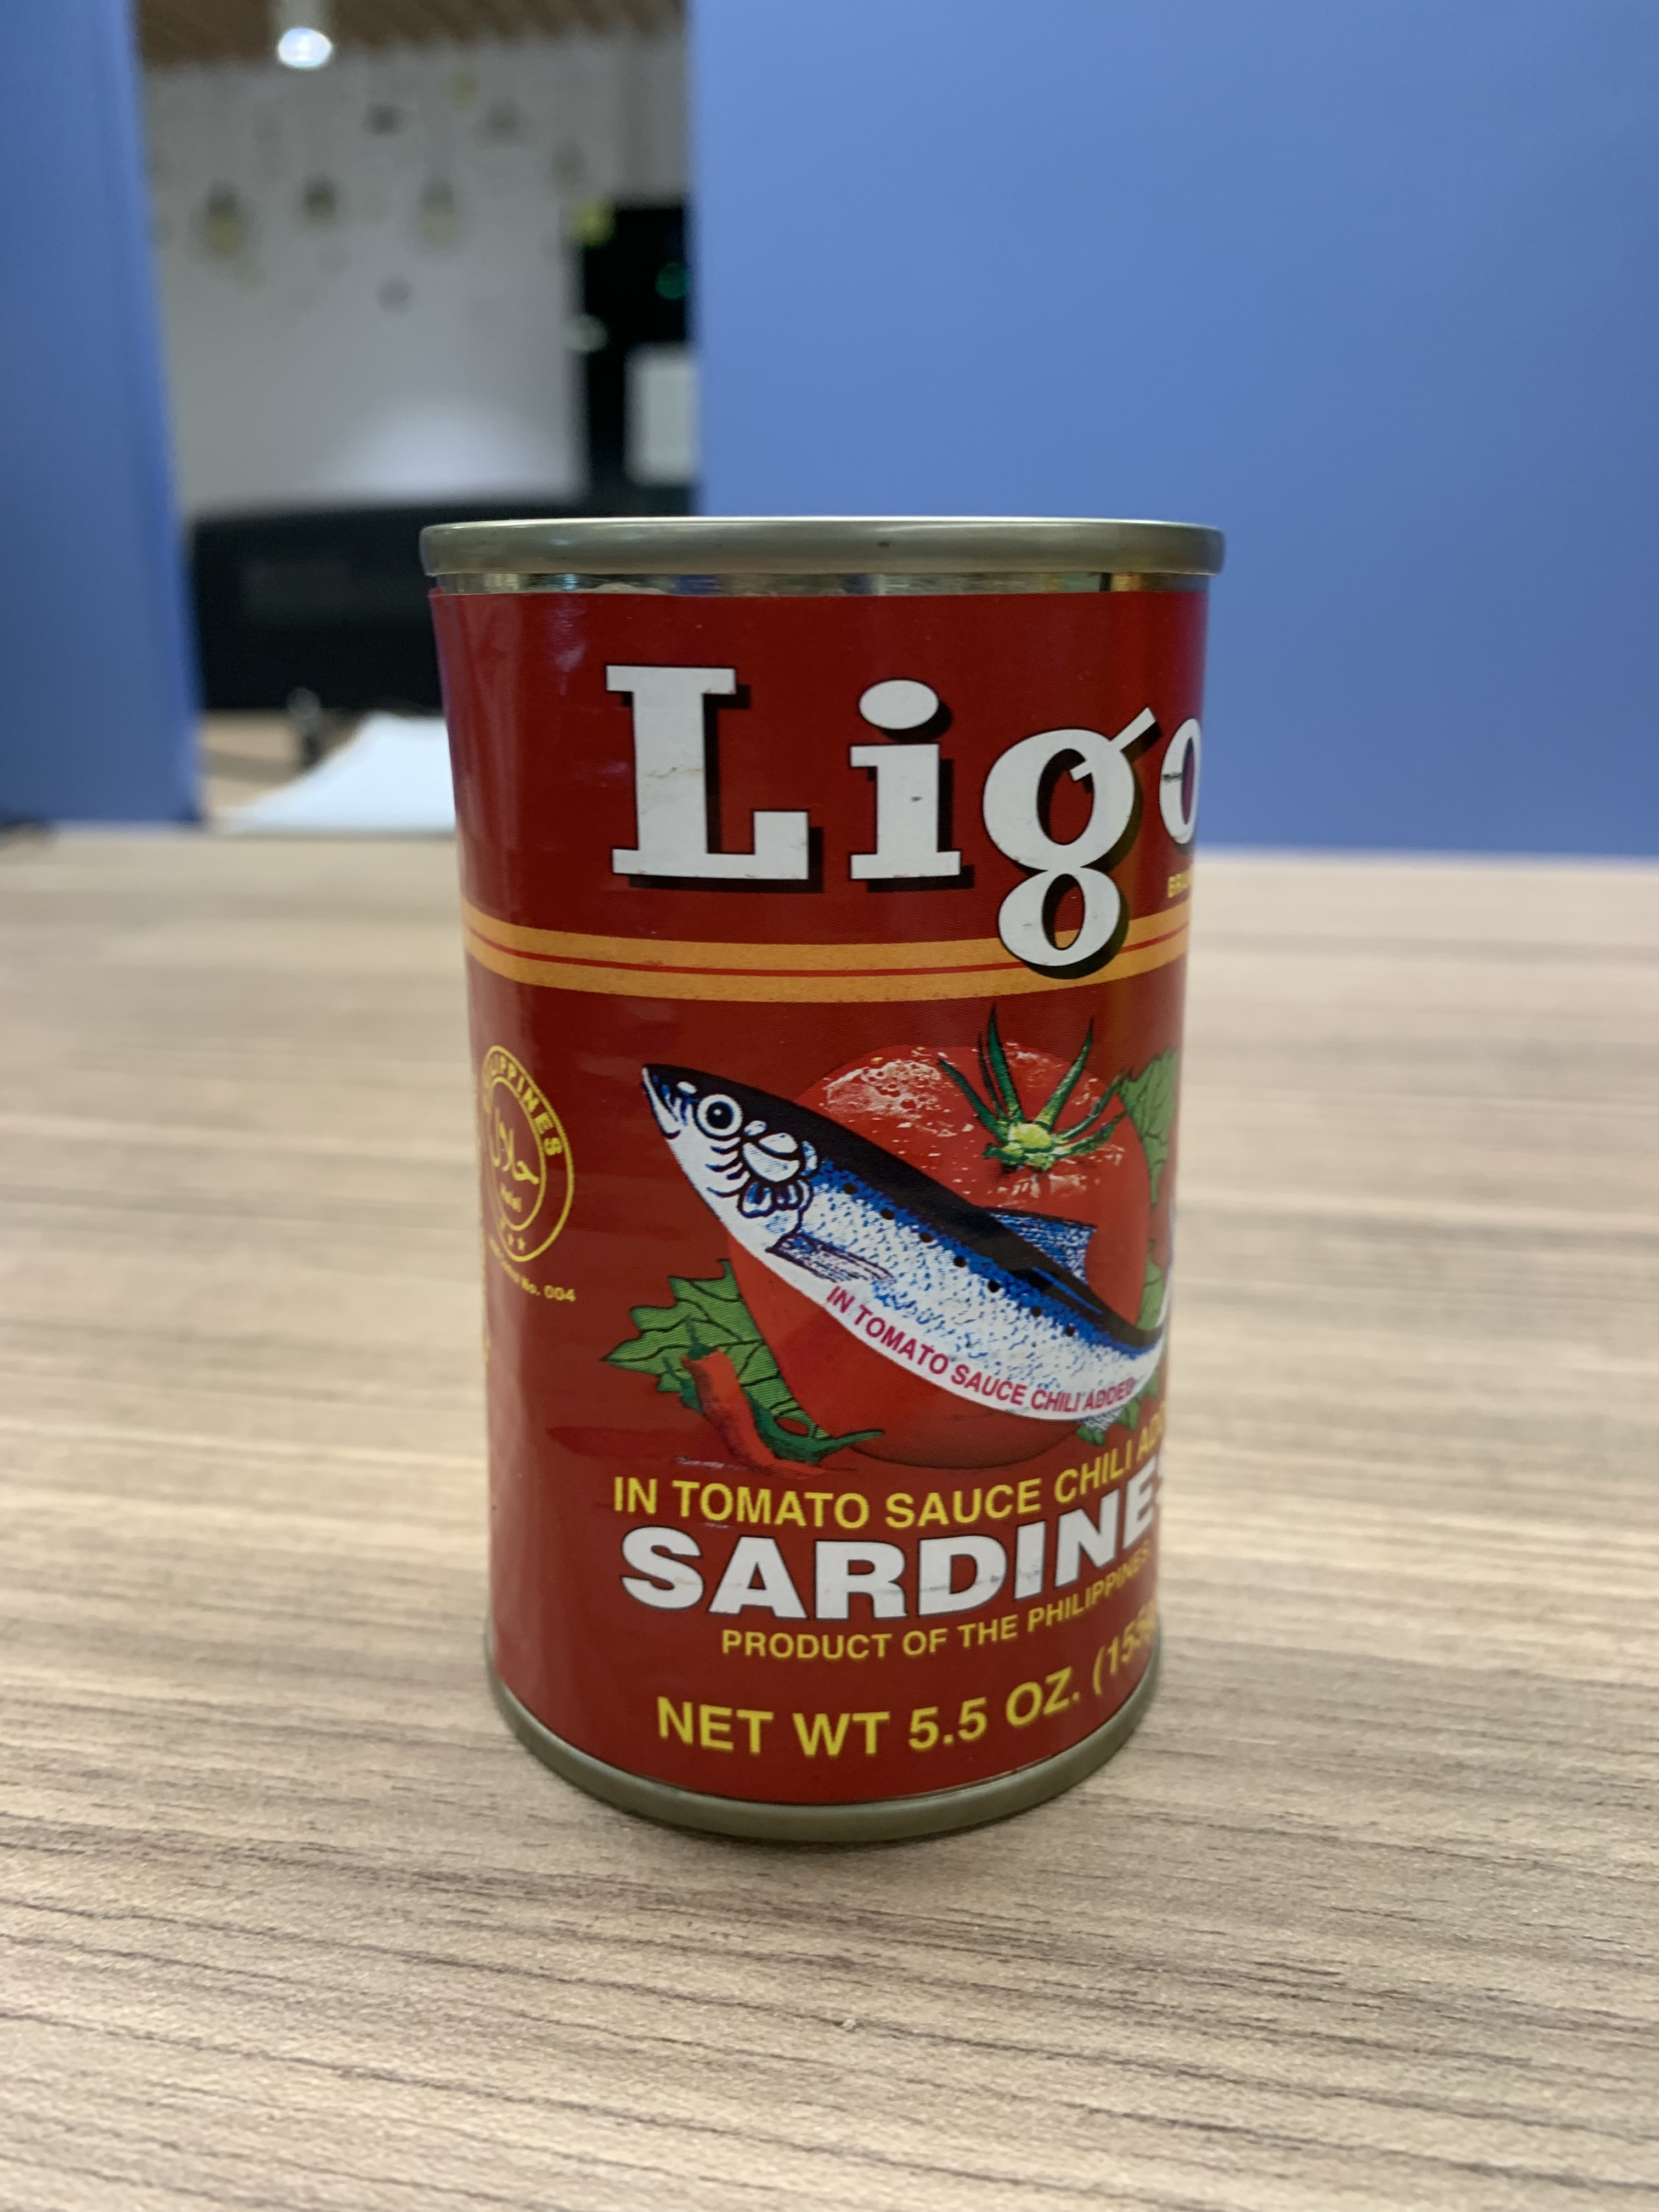sardines: (369, 503, 1243, 1867)
